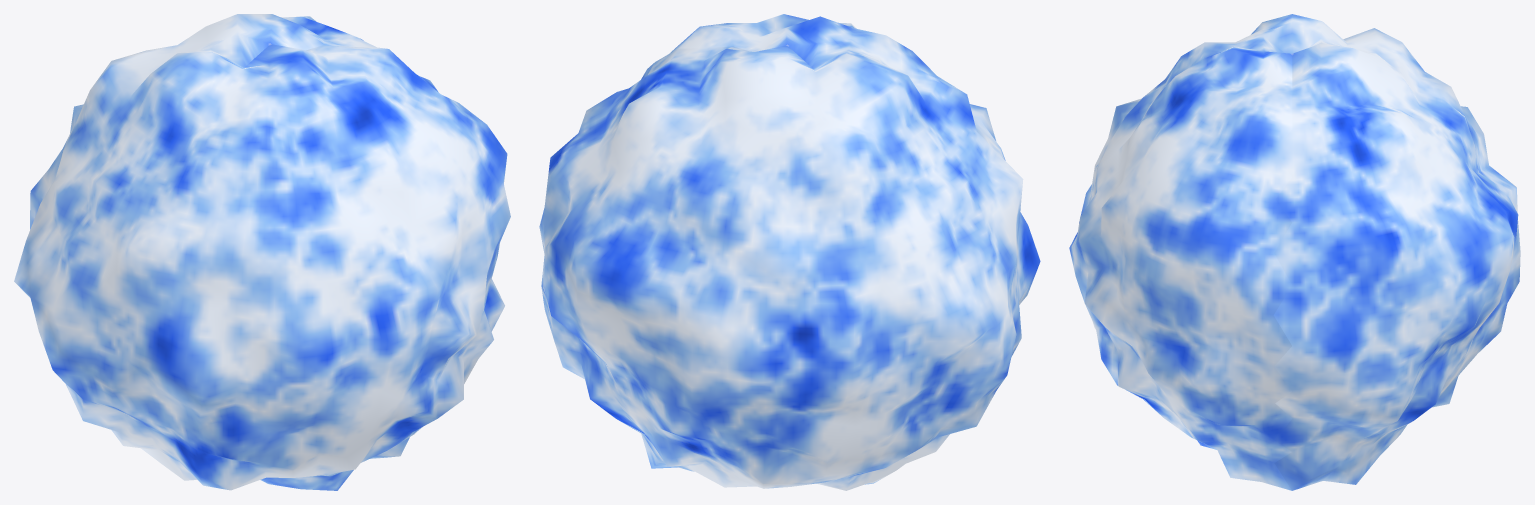
Rendered from fireball_azure.glb.
3 renders of one model, left to right at view 1: azimuth 30°, elevation 25°; view 2: azimuth 150°, elevation 25°; view 3: azimuth 270°, elevation 25°, orthographic. The views are drawn at different scales.
Visible parts, largest first — view 1: fireball; view 2: fireball; view 3: fireball.
Part boxes in pixels (x1,y1,x2,y2): fireball: (14, 14, 510, 490); fireball: (539, 14, 1040, 490); fireball: (1069, 14, 1520, 490).
Size of the model in its own units: 2.29 by 2.14 by 2.2.
Materials: 1 (1 with a texture image).
